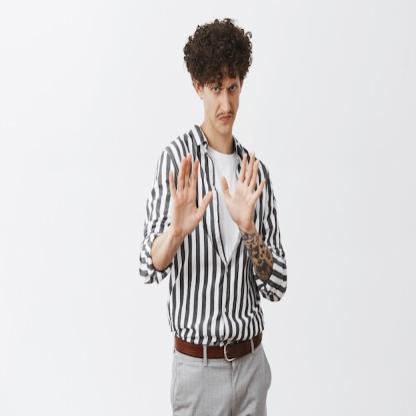stop: (219, 147, 270, 234), (167, 148, 214, 238)
